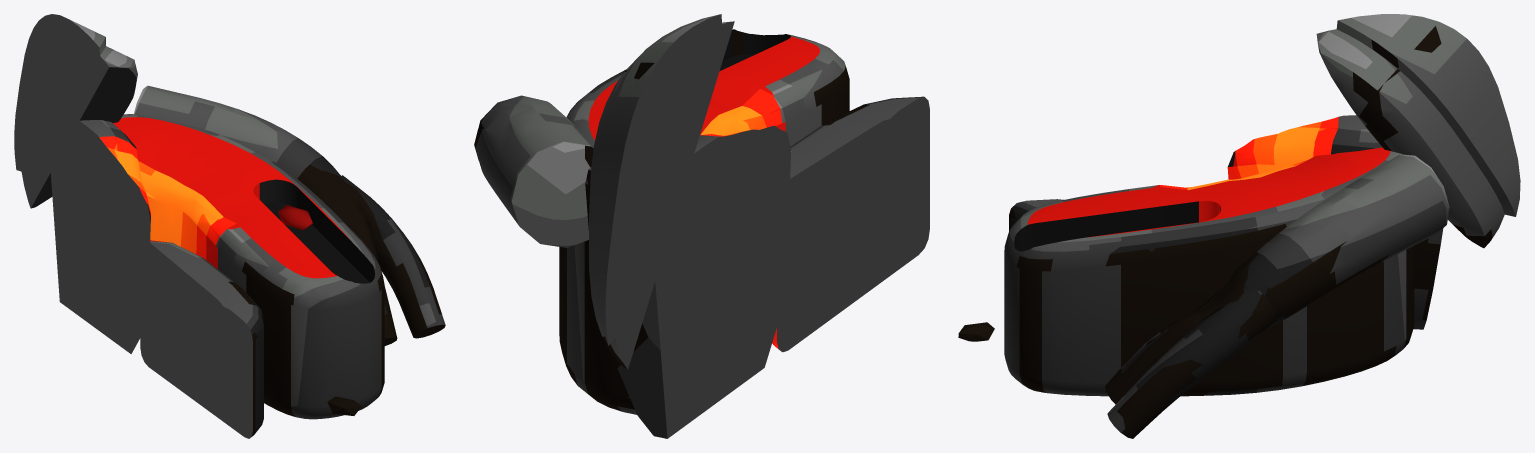
Rendered from field_gun_mount_wreck.glb.
The picture shows the model from 3 angles, left to right: view 1: azimuth 30°, elevation 25°; view 2: azimuth 150°, elevation 25°; view 3: azimuth 270°, elevation 25°; orthographic projection. The views are drawn at different scales.
Parts seen in each view (by area): view 1: field_gun_mount_wreck; view 2: field_gun_mount_wreck; view 3: field_gun_mount_wreck.
Part boxes in pixels (<box>): field_gun_mount_wreck: <box>14,14,445,438</box>; field_gun_mount_wreck: <box>474,14,929,438</box>; field_gun_mount_wreck: <box>958,14,1520,438</box>.
Size of the model in its own units: 13.06 by 14.75 by 24.2.
